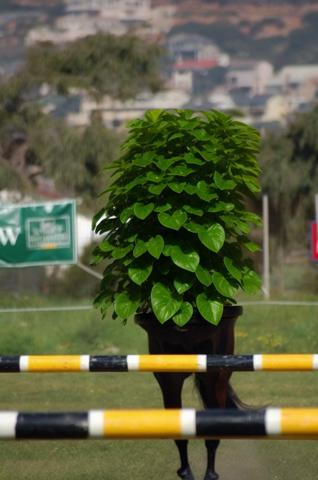horse: (116, 158, 238, 480)
pottedplant: (91, 108, 262, 325)
